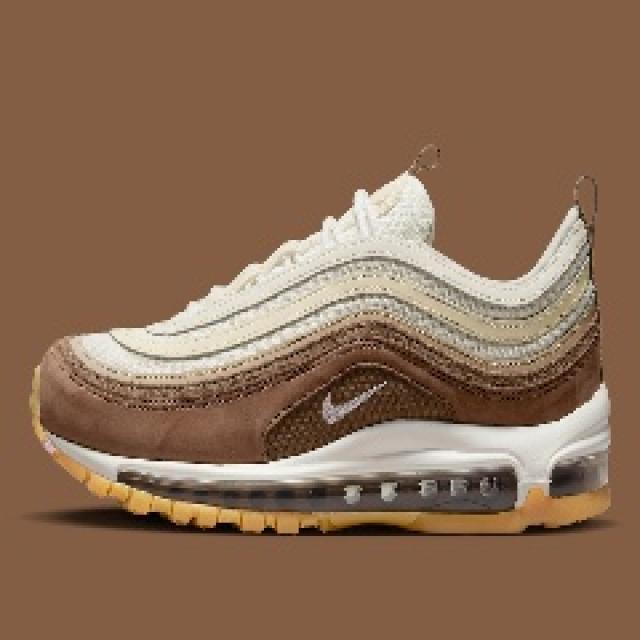shoes: (13, 145, 621, 534)
